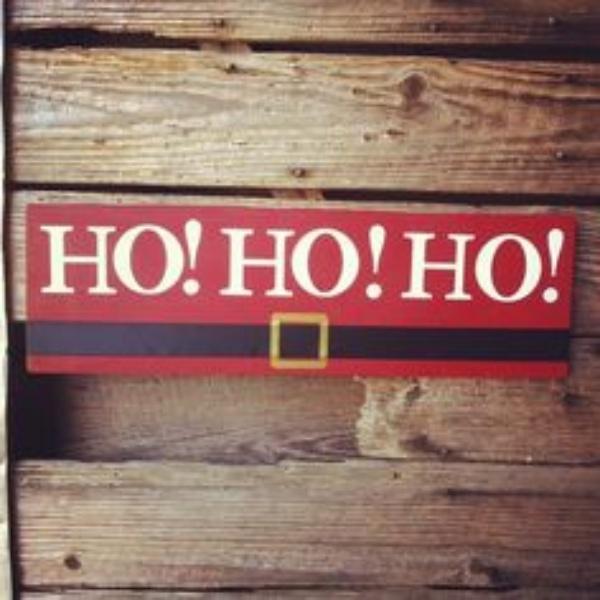text: (417, 227, 432, 306), (433, 227, 448, 306), (449, 227, 464, 306), (465, 227, 480, 306), (481, 227, 496, 306), (497, 227, 512, 306), (513, 227, 528, 306), (529, 227, 544, 306), (545, 227, 560, 306), (49, 217, 64, 295), (65, 217, 80, 295), (81, 217, 96, 295), (97, 217, 112, 295), (113, 217, 128, 295), (129, 217, 144, 295), (145, 217, 160, 295), (161, 217, 176, 295), (177, 217, 192, 295), (225, 224, 240, 301), (241, 224, 256, 301), (257, 224, 272, 301), (273, 224, 288, 301), (289, 224, 304, 301), (305, 224, 320, 301), (321, 224, 336, 301), (337, 224, 352, 301), (353, 224, 368, 301), (369, 224, 384, 301), (402, 227, 416, 306), (193, 217, 204, 295), (39, 217, 48, 295), (219, 224, 224, 301), (561, 227, 565, 306), (385, 224, 389, 301)
